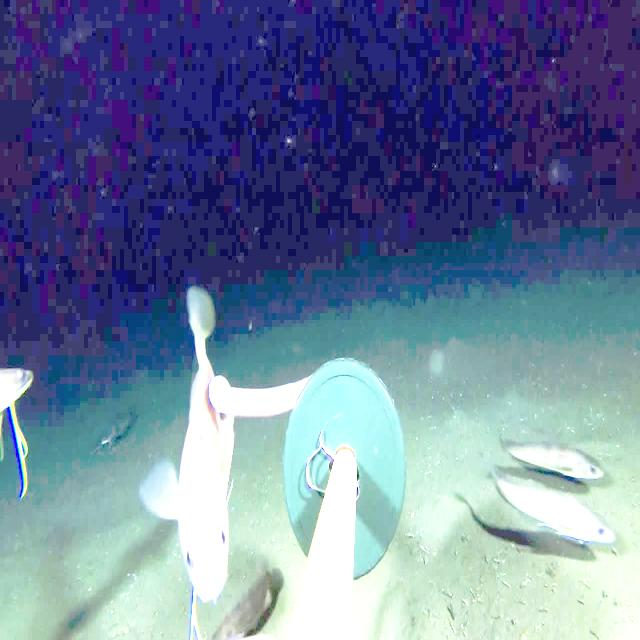eel: (208, 374, 334, 424)
fish: (157, 272, 240, 623), (468, 460, 626, 577), (477, 414, 623, 503), (0, 318, 54, 554), (176, 532, 294, 639), (77, 400, 146, 485)
pole: (278, 371, 412, 582)
